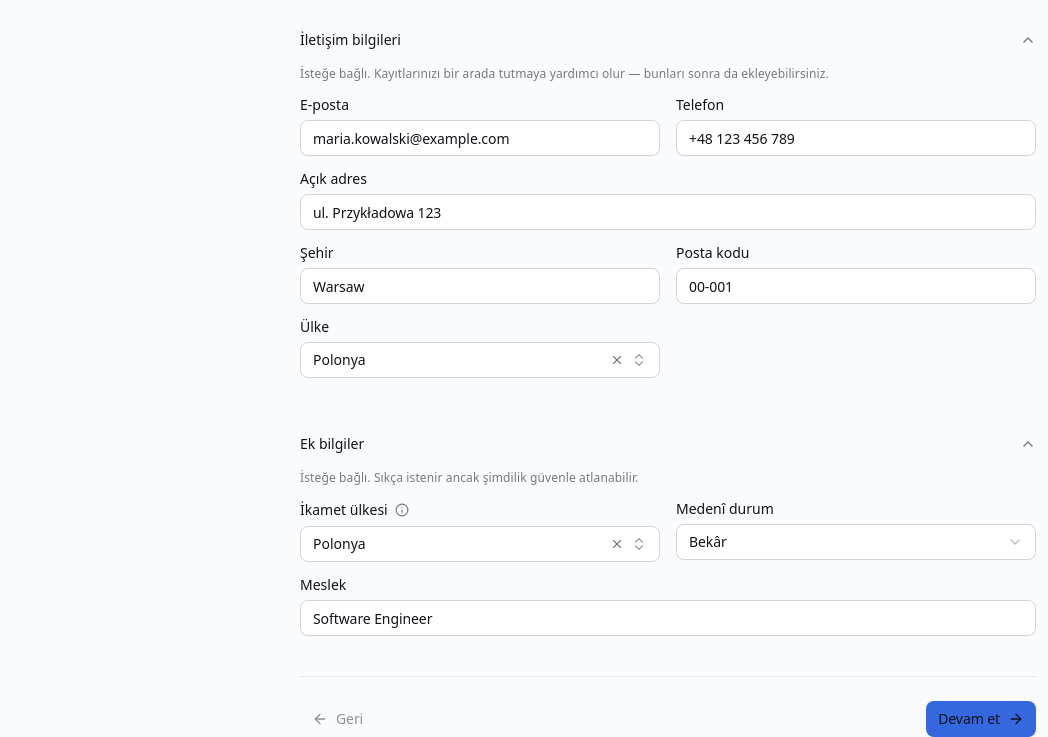
Scenario: Applicant wizard — interaction › advances to the passport step on continue
(page scrolled)
Click the button "Devam et": (981, 719) x1=926 y1=701 x2=1036 y2=736
(page scrolled)
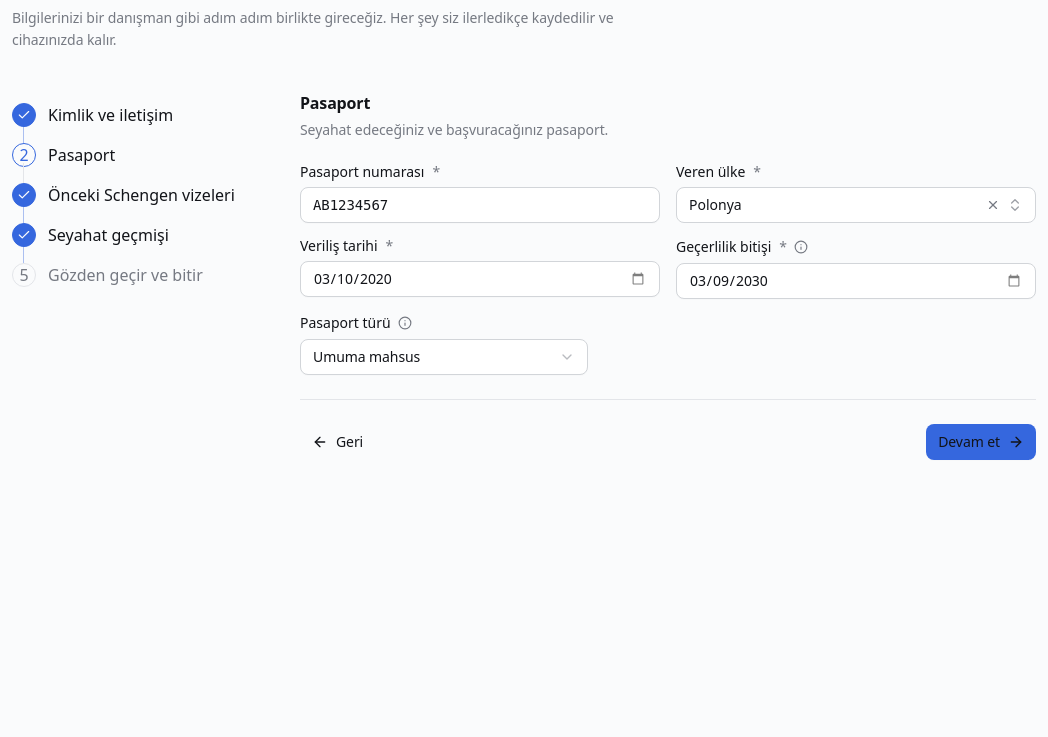
Expected: the heading "Pasaport" is shown, x1=300 y1=92 x2=370 y2=114
